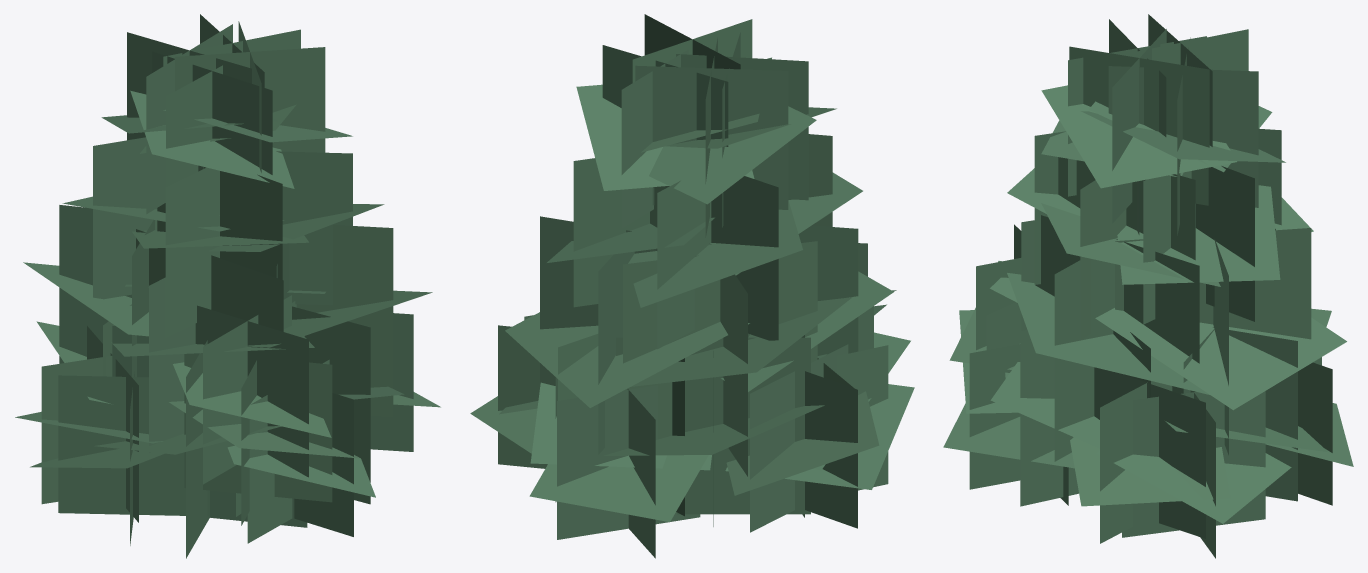
File: pin_1_f2_loin.glb
The picture shows the model from 3 angles, left to right: view 1: azimuth 30°, elevation 25°; view 2: azimuth 150°, elevation 25°; view 3: azimuth 270°, elevation 25°; orthographic projection.
Visible parts, largest first — view 1: Pin_T1_f2_Leger_Loin; view 2: Pin_T1_f2_Leger_Loin; view 3: Pin_T1_f2_Leger_Loin.
Part boxes in pixels (x1,y1,x2,y2): Pin_T1_f2_Leger_Loin: [15, 14, 440, 558]; Pin_T1_f2_Leger_Loin: [470, 14, 914, 558]; Pin_T1_f2_Leger_Loin: [943, 14, 1353, 558].
Bounding box in the file's own units: 7.72 × 8.25 × 7.13.
